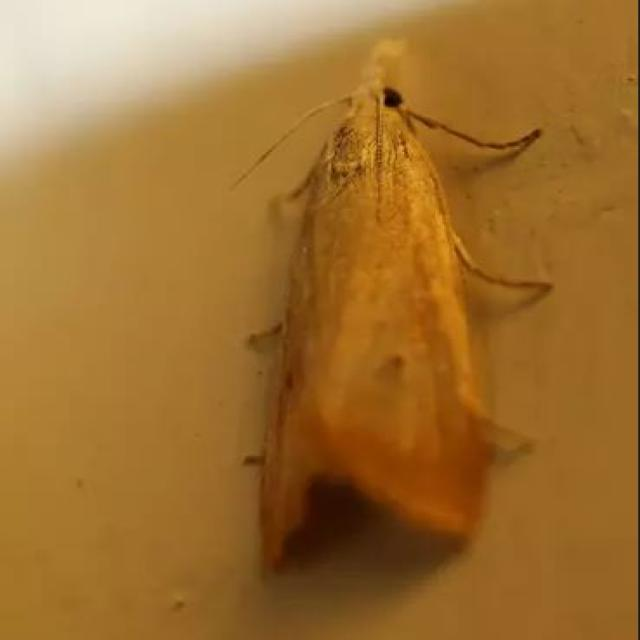rice stem borer -penggerek batang padi-: (229, 37, 551, 577)
